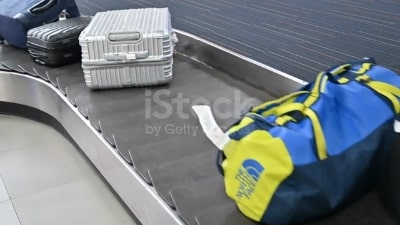baggage: (187, 58, 400, 220), (77, 8, 180, 94), (23, 16, 98, 66), (1, 1, 82, 47)
